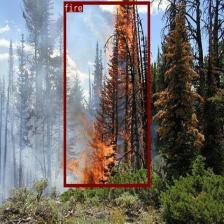fire: (63, 1, 149, 186)
